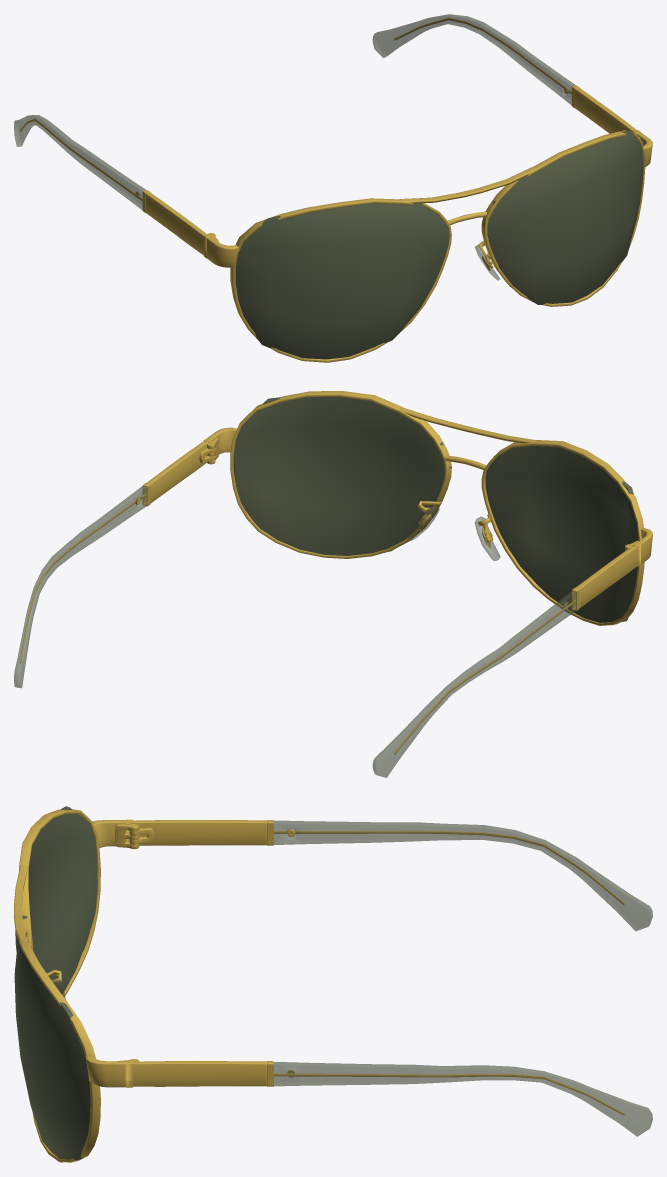
File: cat-eye-zarif-altin-metal.glb
3 views of the same model, one above another, from view 1: azimuth 30°, elevation 25°; view 2: azimuth 150°, elevation 25°; view 3: azimuth 270°, elevation 25° (orthographic). The views are drawn at different scales.
Parts seen in each view (by area): view 1: OPTIK_PRODUCT_265; view 2: OPTIK_PRODUCT_265; view 3: OPTIK_PRODUCT_265.
Part boxes in pixels (<box>): OPTIK_PRODUCT_265: <box>14,14,652,362</box>; OPTIK_PRODUCT_265: <box>14,391,652,777</box>; OPTIK_PRODUCT_265: <box>14,806,652,1162</box>.
Size of the model in its own units: 0.1569 by 0.0556 by 0.1727.
